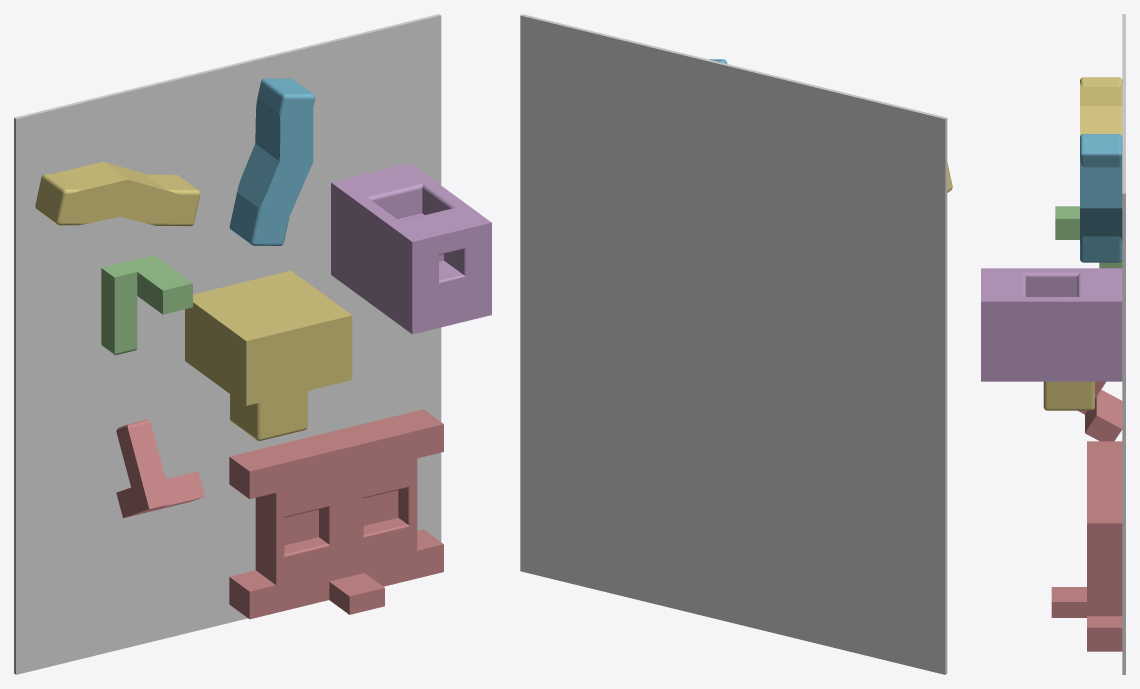
Rendered from pickup_layout.glb.
3 renders of one model, left to right at view 1: azimuth 30°, elevation 25°; view 2: azimuth 150°, elevation 25°; view 3: azimuth 270°, elevation 25°, orthographic. The views are drawn at different scales.
Visible parts, largest first — view 1: world, 0.obj, 3.obj, 6.obj, 2.obj, 1.obj, 4.obj, 5.obj; view 2: world; view 3: 3.obj, 0.obj, 2.obj, world, 1.obj, 5.obj, 6.obj, 4.obj.
Part boxes in pixels (x1=…): world: x1=14, y1=14, x2=441, y2=674; 0.obj: x1=229, y1=409, x2=443, y2=619; 3.obj: x1=331, y1=163, x2=491, y2=334; 6.obj: x1=185, y1=270, x2=352, y2=440; 2.obj: x1=229, y1=78, x2=315, y2=245; 1.obj: x1=35, y1=161, x2=200, y2=226; 4.obj: x1=101, y1=255, x2=192, y2=355; 5.obj: x1=116, y1=420, x2=204, y2=518; world: x1=520, y1=14, x2=947, y2=674; 3.obj: x1=981, y1=268, x2=1122, y2=381; 0.obj: x1=1051, y1=441, x2=1122, y2=651; 2.obj: x1=1080, y1=134, x2=1122, y2=262; world: x1=1122, y1=14, x2=1125, y2=674; 1.obj: x1=1080, y1=77, x2=1122, y2=136; 5.obj: x1=1078, y1=381, x2=1122, y2=441; 6.obj: x1=1043, y1=381, x2=1094, y2=410; 4.obj: x1=1055, y1=206, x2=1122, y2=268.
Size of the model in its own units: 24.07 by 30.07 by 8.2.
